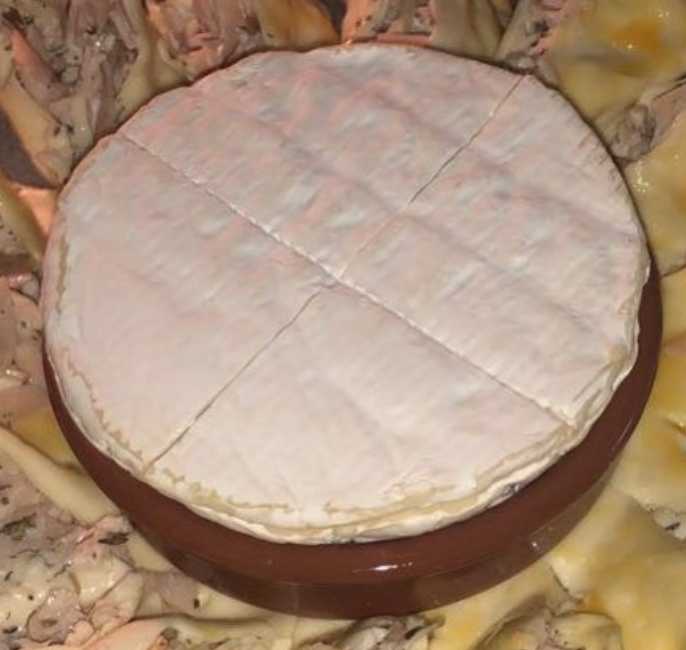camembert: (40, 41, 653, 548)
